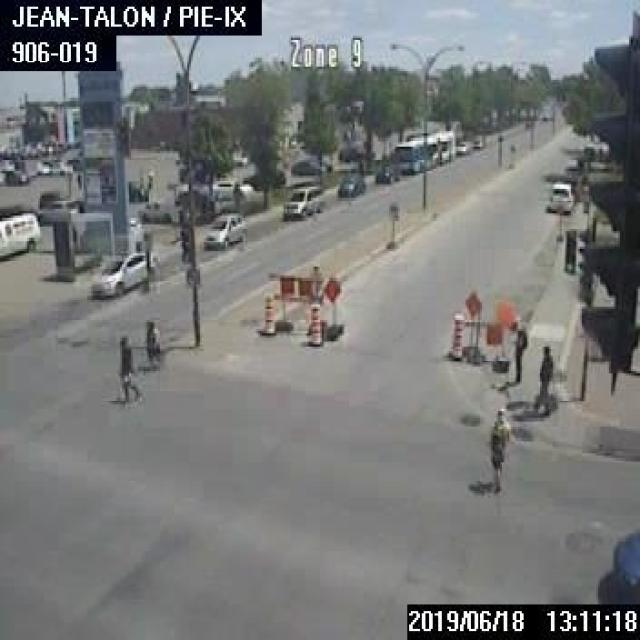bus: (391, 131, 452, 168)
construction: (273, 264, 342, 339), (463, 289, 508, 368), (449, 312, 464, 358), (306, 300, 320, 346), (257, 292, 272, 334), (231, 181, 243, 209)
pedestrian: (487, 405, 511, 491), (116, 336, 142, 402), (508, 314, 529, 382), (536, 342, 554, 416), (144, 315, 160, 369), (142, 240, 154, 291)
vehicle: (84, 247, 144, 300), (609, 527, 638, 602), (202, 207, 246, 249), (0, 210, 38, 257), (278, 182, 320, 222), (37, 196, 80, 224), (333, 169, 367, 200), (546, 178, 576, 213), (242, 166, 284, 188), (211, 178, 252, 197), (139, 200, 176, 219), (289, 156, 322, 172), (373, 163, 398, 182), (124, 177, 146, 198), (0, 170, 29, 183), (48, 160, 70, 172), (452, 140, 471, 153), (470, 134, 483, 145)
